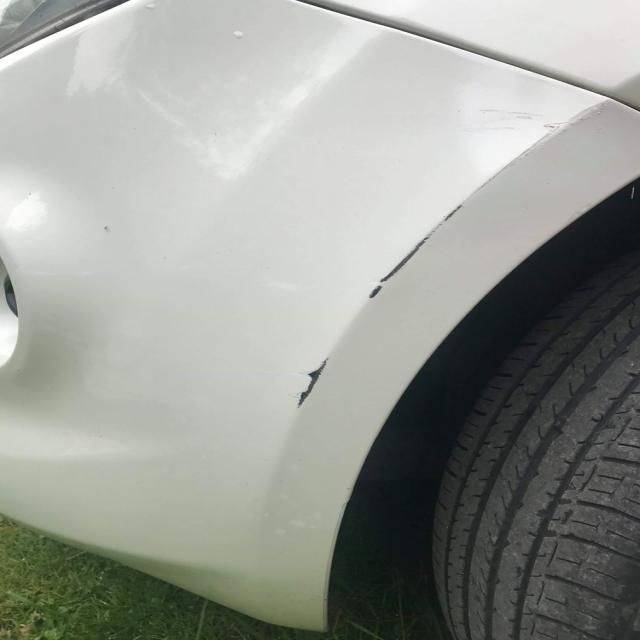scratch: (297, 122, 549, 409)
